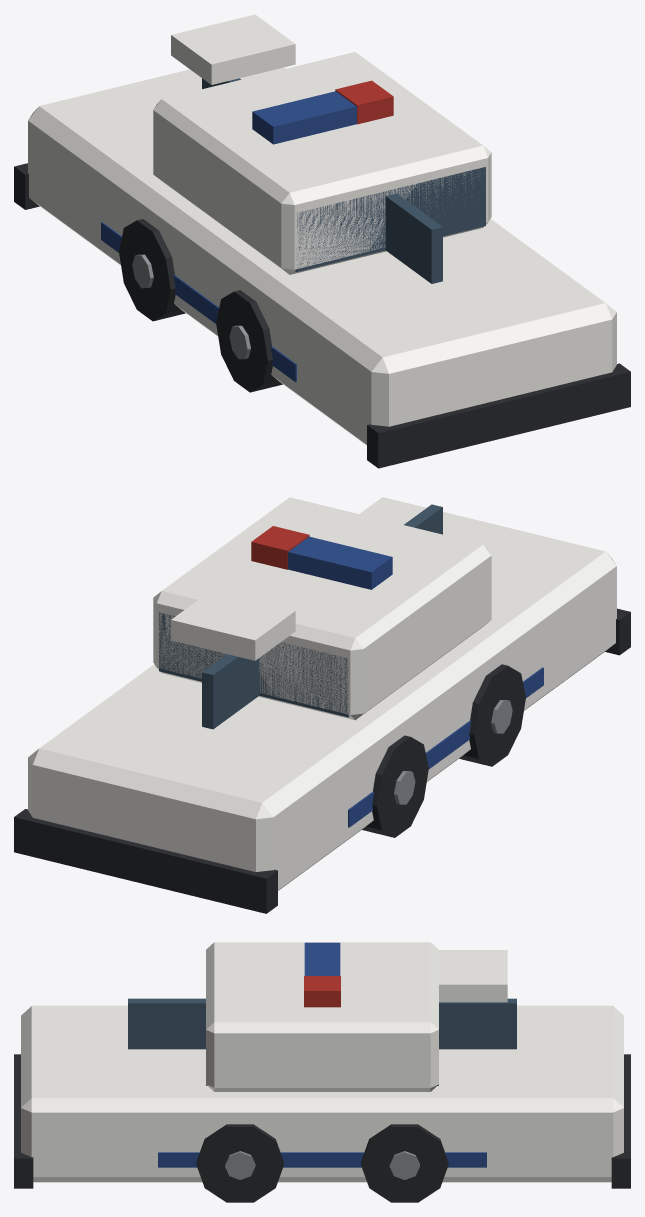
The model's file is vehicle.patrol.glb.
3 views of the same model, one above another, from view 1: azimuth 30°, elevation 25°; view 2: azimuth 150°, elevation 25°; view 3: azimuth 270°, elevation 25° (orthographic). The views are drawn at different scales.
Visible parts, largest first — view 1: vehicle.patrol; view 2: vehicle.patrol; view 3: vehicle.patrol.
Part boxes in pixels (x1=…): vehicle.patrol: x1=14, y1=14, x2=630, y2=468; vehicle.patrol: x1=14, y1=497, x2=630, y2=913; vehicle.patrol: x1=14, y1=942, x2=630, y2=1202.
Bounding box in the file's own units: 1.89 × 1.47 × 4.5.
